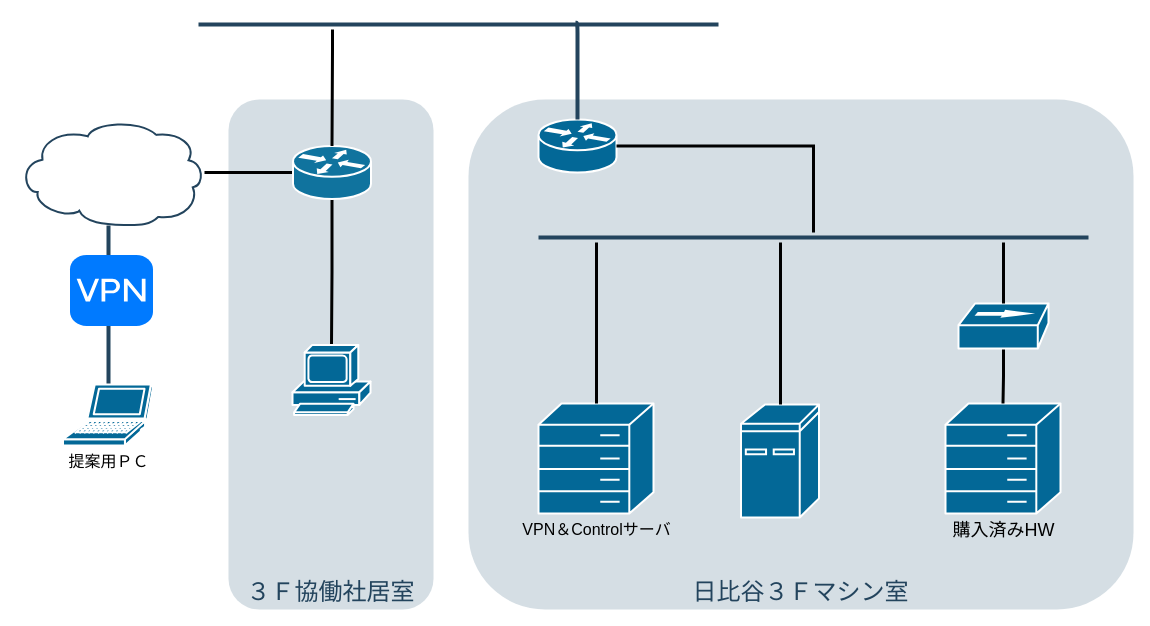
Image size: 1150x626. Some labels were removed from this diagram. Here are the shapes that lost their labels. From the top down, the centre of each, then its label:
At point (111, 172): "Internet".
At point (331, 380): "独自ＬＡＮ構築ＰＣ".
At point (780, 460): "旧Ｏｗｌｓ".
